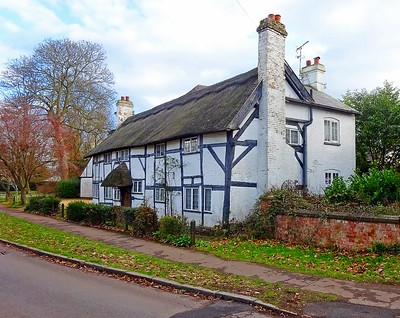medium: (78, 11, 364, 234)
